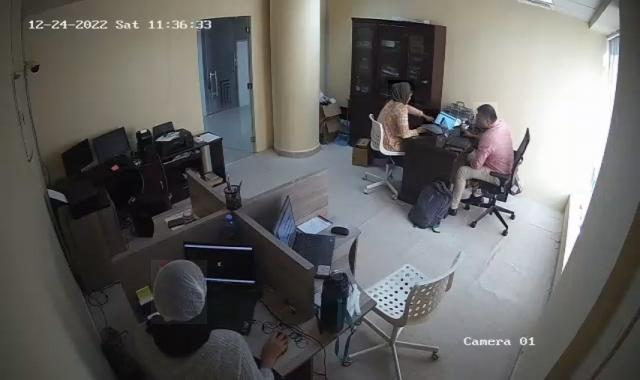gloves: (151, 260, 207, 324)
no_apron: (258, 332, 296, 371), (461, 128, 482, 140), (424, 109, 440, 124), (413, 126, 432, 136)
no_gloves: (388, 80, 414, 108), (473, 102, 498, 114)
no_hairnet: (473, 114, 492, 128), (404, 86, 415, 105)
